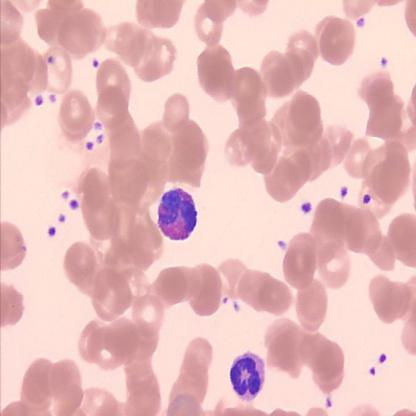Eosinophil: (158, 188, 196, 239)
